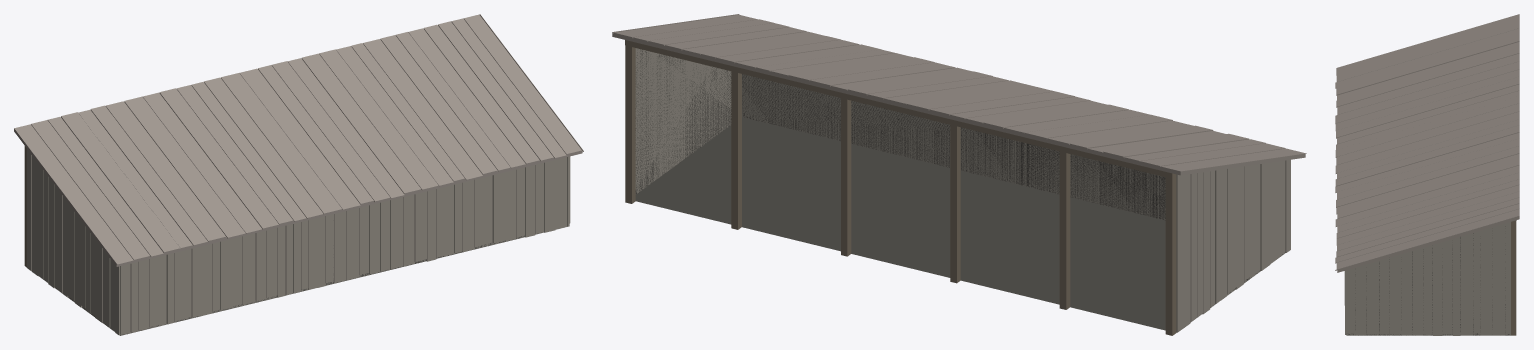
File: brickyard_north_side__yard_1833.glb
3 views of the same model, side by side, from view 1: azimuth 30°, elevation 25°; view 2: azimuth 150°, elevation 25°; view 3: azimuth 270°, elevation 25° (orthographic). The views are drawn at different scales.
Visible parts, largest first — view 1: brickyard_north_side__yard_1833; view 2: brickyard_north_side__yard_1833; view 3: brickyard_north_side__yard_1833.
Boxes of the visible parts, x1,y1,x2,y2 form: brickyard_north_side__yard_1833: (14, 14, 583, 335); brickyard_north_side__yard_1833: (612, 14, 1306, 335); brickyard_north_side__yard_1833: (1335, 14, 1519, 335).
Bounding box in the file's own units: 14.54 × 4.15 × 5.6.
